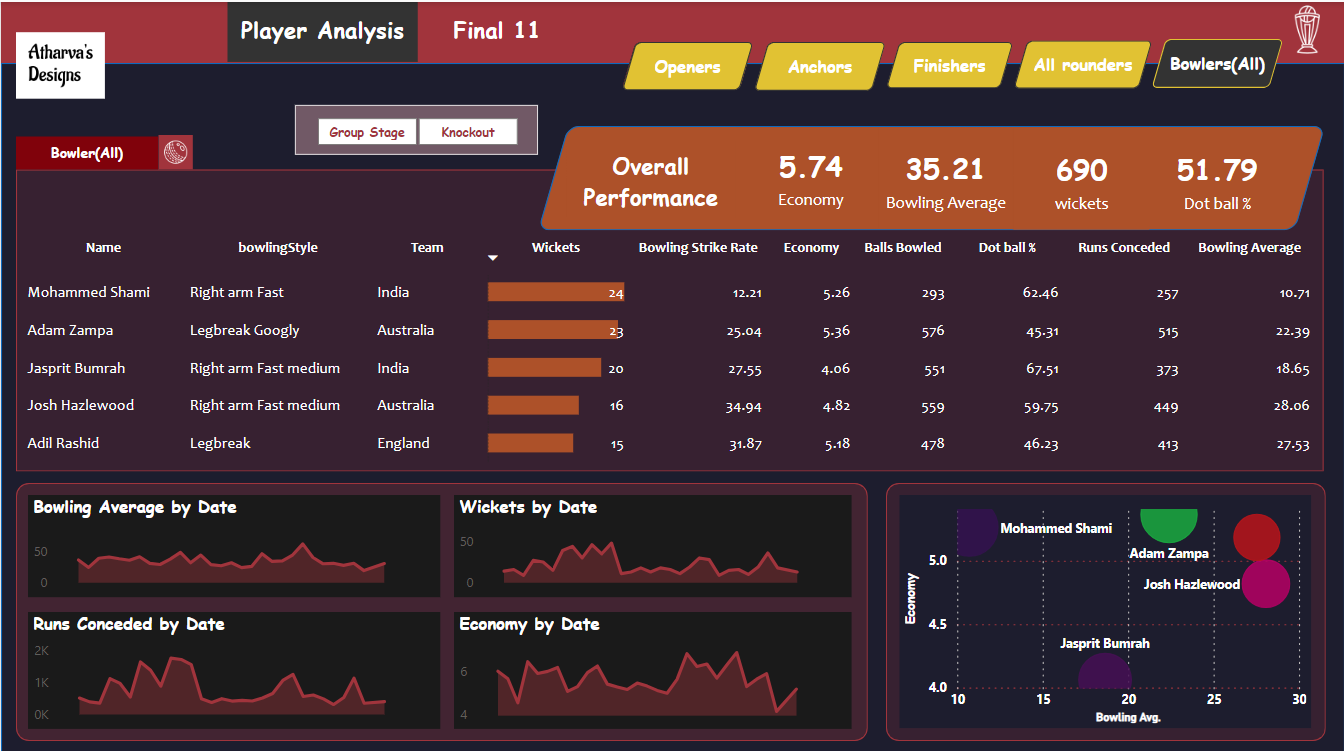

This screenshot's page, from the dashboard's own definition file:
{"tool":"powerbi","page":{"name":"Bowlers(All)","canvas":[1280,720],"ordinal":4},"visuals":[{"type":"shape","box":[0,63.3,1279.9,657.2],"z":0},{"type":"shape","box":[842.7,463.1,419,245.7],"z":1000},{"type":"shape","box":[14.4,163.9,1245.4,287.6],"z":2000},{"type":"slicer","fields":{"Values":["dim_matchSummary.Stage"]},"box":[280.4,102.4,231.5,47.3],"z":3000},{"type":"shape","box":[511.9,122.9,749.7,99.2],"z":4000},{"type":"tableEx","fields":{"Values":["dim_players.player_name","dim_players.bowlingStyle","dim_players.team_name","Key_measures.wickets","Key_measures.Bowling Strike Rate","Key_measures.Economy","Key_measures.balls Bowled","Key_measures.Dot ball %","Key_measures.Runs Conceded","Key_measures.Bowling Average"]},"box":[14.2,215.8,1244.3,236.3],"z":5000},{"type":"textbox","box":[14.4,132.3,135.2,31.6],"z":6000},{"type":"card","fields":{"Values":["Key_measures.Economy"]},"box":[699.3,124.4,141.8,91.4],"z":7000},{"type":"card","fields":{"Values":["Key_measures.Bowling Average"]},"box":[836.4,124.4,127.6,96.1],"z":8000},{"type":"card","fields":{"Values":["Key_measures.wickets"]},"box":[964,124.4,129.2,97.7],"z":9000},{"type":"card","fields":{"Values":["Key_measures.Dot ball %"]},"box":[1094.7,126,127.6,94.5],"z":10000},{"type":"shape","box":[14.2,463.1,811.2,245.7],"z":11000},{"type":"shape","box":[591.1,43.1,125.1,44.6],"z":12000},{"type":"image","box":[14.4,23,84.8,84.8],"z":13000},{"type":"image","box":[1206.6,0,73.3,61.8],"z":14000},{"type":"actionButton","title":"Openers","box":[591.1,43.1,125.1,46],"z":15000},{"type":"actionButton","box":[409.9,0,125.1,61.8],"z":16000},{"type":"actionButton","box":[215.7,0,181.2,61.8],"z":17000},{"type":"textbox","box":[538.7,137,160.7,72.5],"z":18000},{"type":"actionButton","title":"Openers","box":[717,42.5,125.6,46.6],"z":19000},{"type":"scatterChart","fields":{"X":["Key_measures.Bowling Average"],"Category":["dim_players.player_name"],"Series":["dim_players.player_name"],"Y":["Key_measures.Economy"],"Size":["Key_measures.wickets"]},"box":[855.3,474.1,392.2,222.1],"z":20000},{"type":"image","box":[149.9,131.6,32.4,32.4],"z":21000},{"type":"actionButton","title":"Openers","box":[842.7,42.5,121.3,44.1],"z":22000},{"type":"stackedAreaChart","title":"Bowling Average by Date","fields":{"Category":["dim_matchSummary.matchDate.Variation.Date Hierarchy.Day"],"Y":["Key_measures.Bowling Average"]},"box":[26.3,473.9,392.9,97.2],"z":23000},{"type":"stackedAreaChart","title":"Wickets by Date","fields":{"Category":["dim_matchSummary.matchDate.Variation.Date Hierarchy.Day"],"Y":["Key_measures.wickets"]},"box":[431.4,473.9,378.7,97.2],"z":24000},{"type":"stackedAreaChart","title":"Runs Conceded by Date","fields":{"Category":["dim_matchSummary.matchDate.Variation.Date Hierarchy.Day"],"Y":["Key_measures.Runs Conceded"]},"box":[26.3,585.3,392.9,111.4],"z":25000},{"type":"stackedAreaChart","title":"Economy by Date","fields":{"Category":["dim_matchSummary.matchDate.Variation.Date Hierarchy.Day"],"Y":["Key_measures.Economy"]},"box":[431.4,585.3,378.7,111.4],"z":26000},{"type":"actionButton","title":"Openers","box":[1095.7,40.5,125.6,46.6],"z":27000},{"type":"actionButton","title":"Openers","box":[964,41,132.3,45.7],"z":28000}]}

Visuals, with their boxes in screenshot pixels (x1, y1, x2, y2), scaled from the page's 1280x720 canvas onto the 1344x751 screenshot:
shape: {"left": 0, "top": 66, "right": 1343, "bottom": 750}
shape: {"left": 885, "top": 483, "right": 1325, "bottom": 739}
shape: {"left": 15, "top": 171, "right": 1323, "bottom": 471}
slicer - dim_matchSummary.Stage: {"left": 294, "top": 107, "right": 537, "bottom": 156}
shape: {"left": 537, "top": 128, "right": 1325, "bottom": 232}
tableEx - dim_players.player_name x dim_players.bowlingStyle: {"left": 15, "top": 225, "right": 1321, "bottom": 472}
textbox: {"left": 15, "top": 138, "right": 157, "bottom": 171}
card - Key_measures.Economy: {"left": 734, "top": 130, "right": 883, "bottom": 225}
card - Key_measures.Bowling Average: {"left": 878, "top": 130, "right": 1012, "bottom": 230}
card - Key_measures.wickets: {"left": 1012, "top": 130, "right": 1148, "bottom": 232}
card - Key_measures.Dot ball %: {"left": 1149, "top": 131, "right": 1283, "bottom": 230}
shape: {"left": 15, "top": 483, "right": 867, "bottom": 739}
shape: {"left": 621, "top": 45, "right": 752, "bottom": 91}
image: {"left": 15, "top": 24, "right": 104, "bottom": 112}
image: {"left": 1267, "top": 0, "right": 1343, "bottom": 64}
"Openers" actionButton: {"left": 621, "top": 45, "right": 752, "bottom": 93}
actionButton: {"left": 430, "top": 0, "right": 562, "bottom": 64}
actionButton: {"left": 226, "top": 0, "right": 417, "bottom": 64}
textbox: {"left": 566, "top": 143, "right": 734, "bottom": 219}
"Openers" actionButton: {"left": 753, "top": 44, "right": 885, "bottom": 93}
scatterChart - Key_measures.Bowling Average x dim_players.player_name: {"left": 898, "top": 495, "right": 1310, "bottom": 726}
image: {"left": 157, "top": 137, "right": 191, "bottom": 171}
"Openers" actionButton: {"left": 885, "top": 44, "right": 1012, "bottom": 90}
"Bowling Average by Date" stackedAreaChart: {"left": 28, "top": 494, "right": 440, "bottom": 596}
"Wickets by Date" stackedAreaChart: {"left": 453, "top": 494, "right": 851, "bottom": 596}
"Runs Conceded by Date" stackedAreaChart: {"left": 28, "top": 611, "right": 440, "bottom": 727}
"Economy by Date" stackedAreaChart: {"left": 453, "top": 611, "right": 851, "bottom": 727}
"Openers" actionButton: {"left": 1150, "top": 42, "right": 1282, "bottom": 91}
"Openers" actionButton: {"left": 1012, "top": 43, "right": 1151, "bottom": 90}
